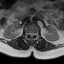CCS_normal: (30, 30, 32, 39)
LFS_normal: (34, 30, 36, 37)
LLS_normal: (32, 30, 34, 38)
RFS_normal: (26, 30, 28, 36)
RLS_normal: (28, 30, 30, 37)
